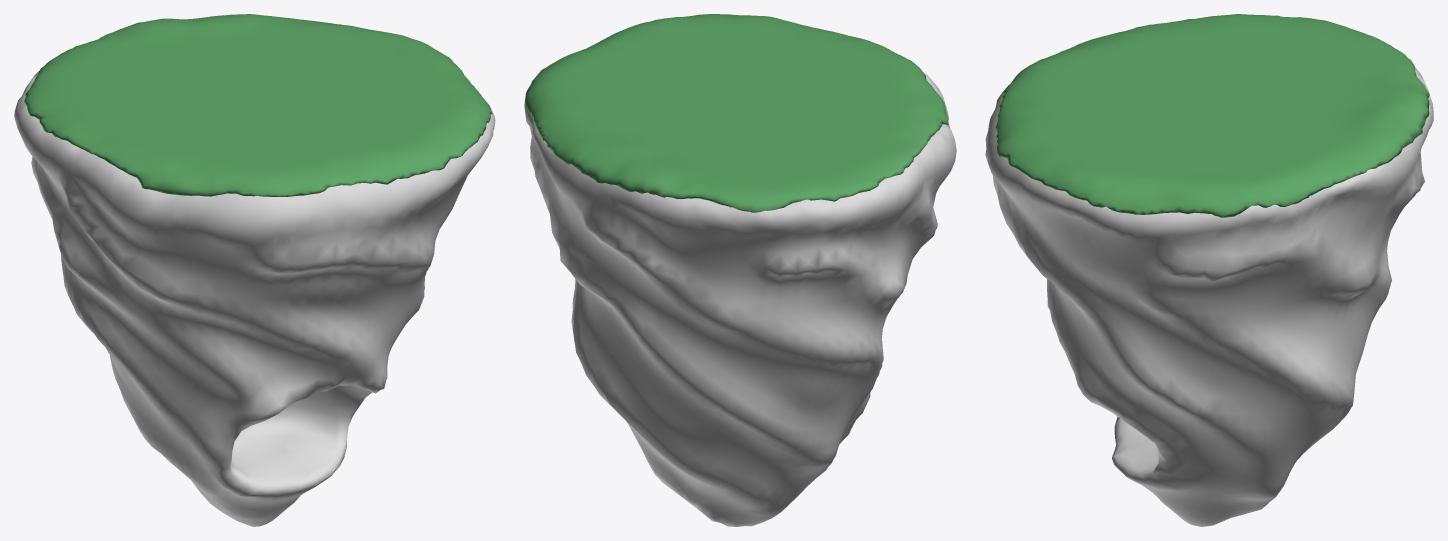
File: IslandConeFlatTop.fbx
3 views of the same model, side by side, from view 1: azimuth 30°, elevation 25°; view 2: azimuth 150°, elevation 25°; view 3: azimuth 270°, elevation 25° (orthographic).
Visible parts, largest first — view 1: IslandBowl1Base.004, IslandBowl1Base.005; view 2: IslandBowl1Base.004, IslandBowl1Base.005; view 3: IslandBowl1Base.004, IslandBowl1Base.005.
Part boxes in pixels (x1,y1,x2,y2): IslandBowl1Base.004: [14, 71, 495, 526]; IslandBowl1Base.005: [24, 14, 492, 196]; IslandBowl1Base.004: [524, 71, 956, 526]; IslandBowl1Base.005: [525, 14, 948, 212]; IslandBowl1Base.004: [985, 35, 1433, 526]; IslandBowl1Base.005: [995, 14, 1429, 217].
Size of the model in its own units: 8262 by 8567 by 8065.
